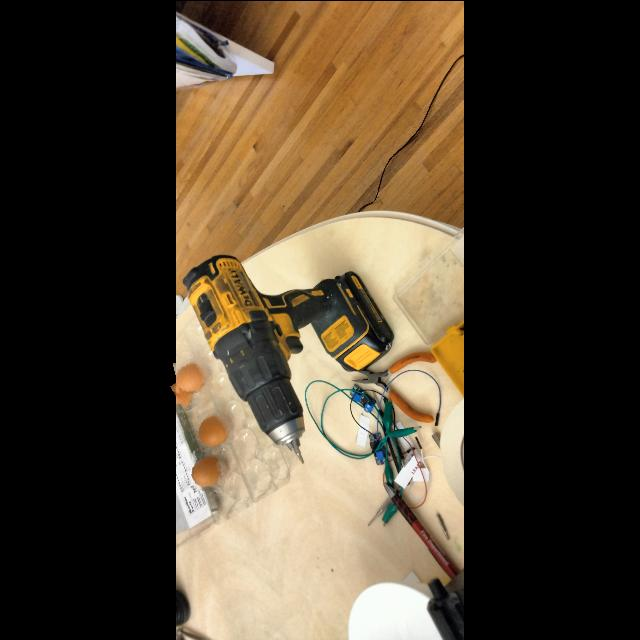Egg: (189, 451, 231, 491), (194, 409, 232, 446), (175, 357, 211, 393), (173, 374, 204, 408)
